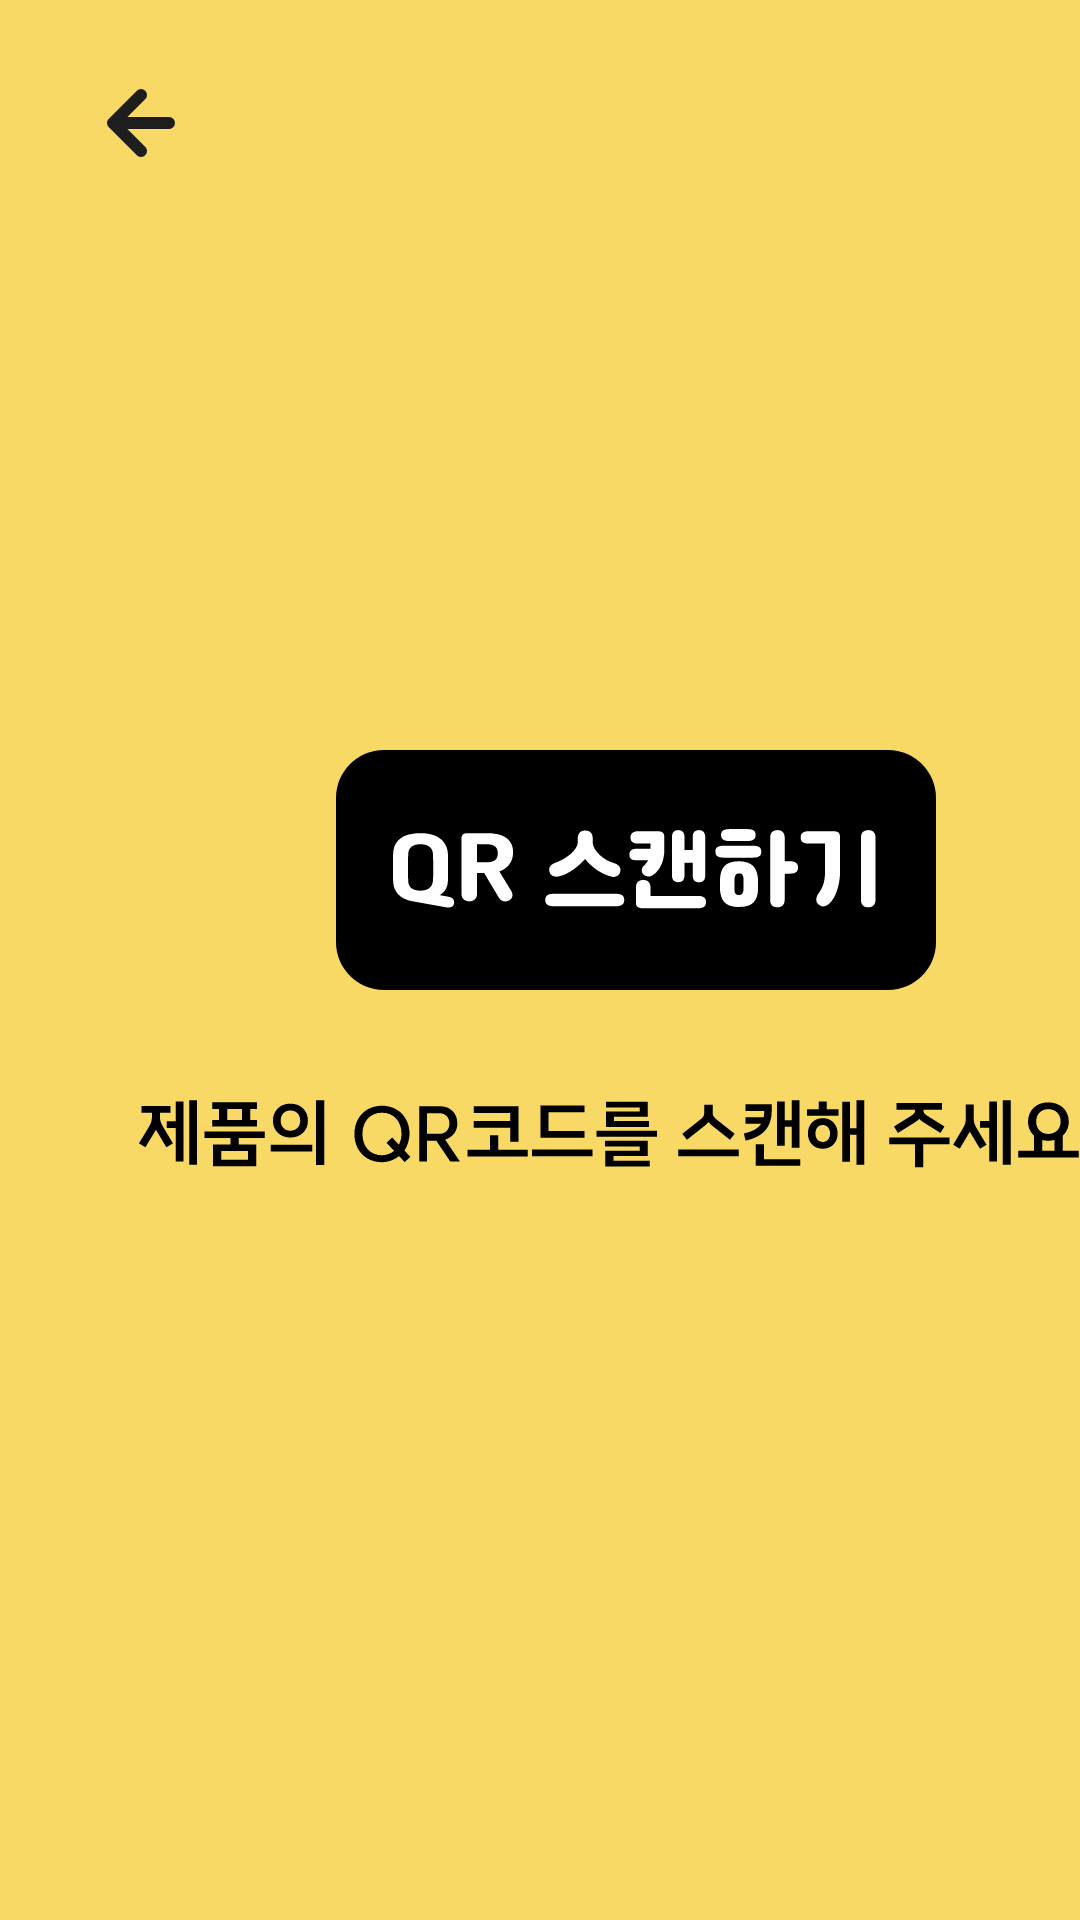

Icon bounding boxes for this 1080 x 1920 phone screenshot, format bbox(x1, y1, x2, y2):
arrow left: bbox(107, 89, 175, 157)
